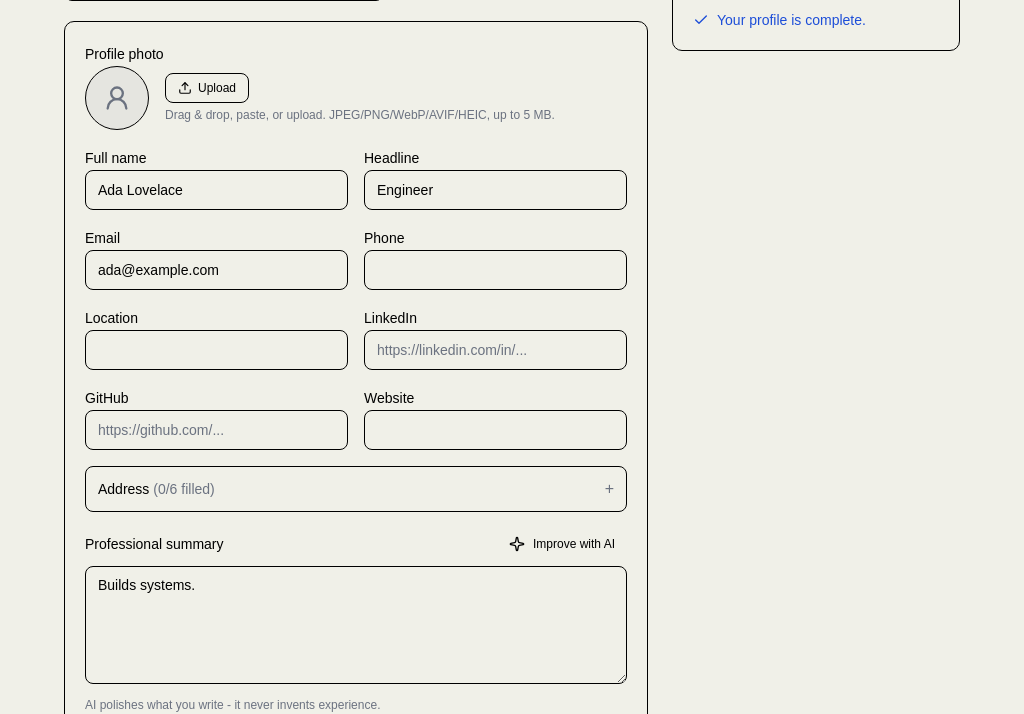
ProfileWorkspace › blocks Generate resume while there are unsaved edits
The width and height of the screenshot is (1024, 714).
(page scrolled)
Replace the text in the text box showing "Builds systems." with "Dirty edit." at [356, 625], box [85,566,627,684]
(page scrolled)
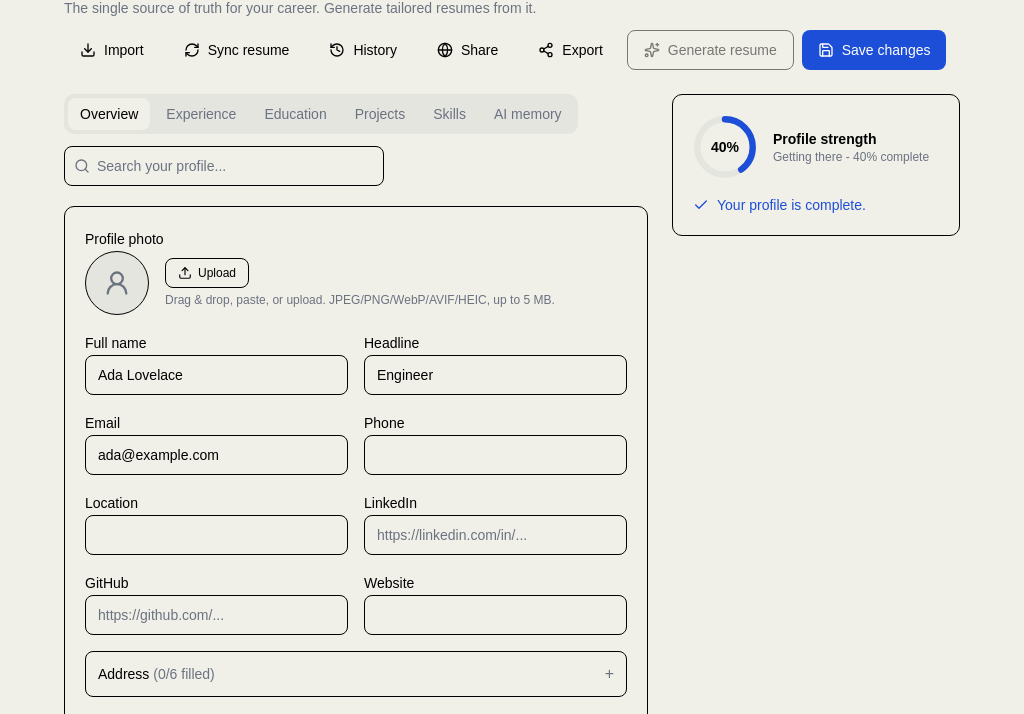
Expected: the button "Generate resume" is disabled, [627,30,794,70]
